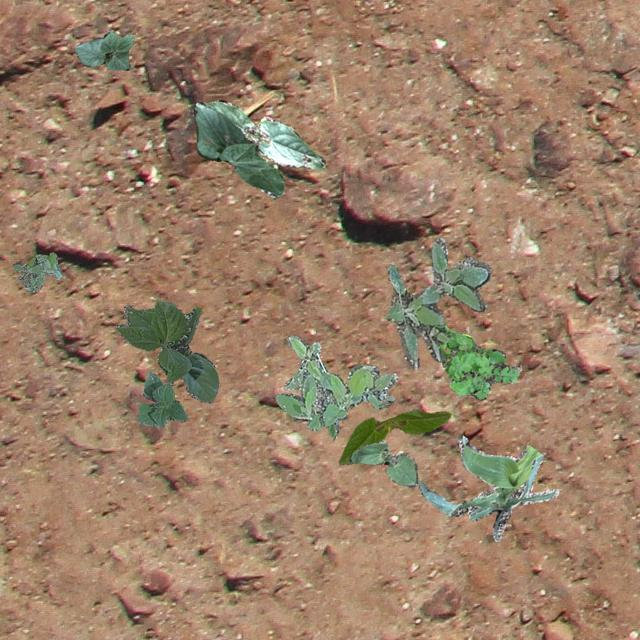crop: (418, 434, 558, 540), (114, 299, 218, 402), (192, 100, 284, 198), (203, 98, 324, 168), (338, 409, 450, 464), (348, 440, 417, 486), (136, 370, 188, 428), (74, 29, 134, 70)
weed: (384, 236, 490, 368), (274, 334, 398, 438), (438, 324, 520, 398), (12, 252, 61, 290)
